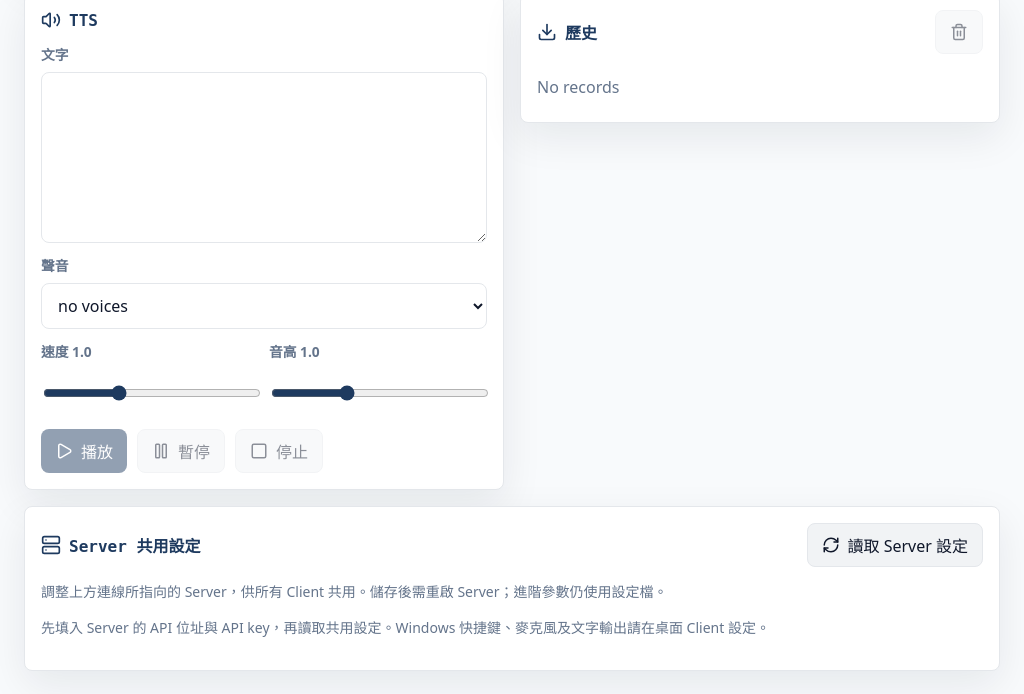
Test: App › keeps the endpoint and pending write when switching is rejected
(page scrolled)
Step 1. Click the button "讀取 Server 設定" → (895, 545), box [806, 523, 983, 567]
(page scrolled)
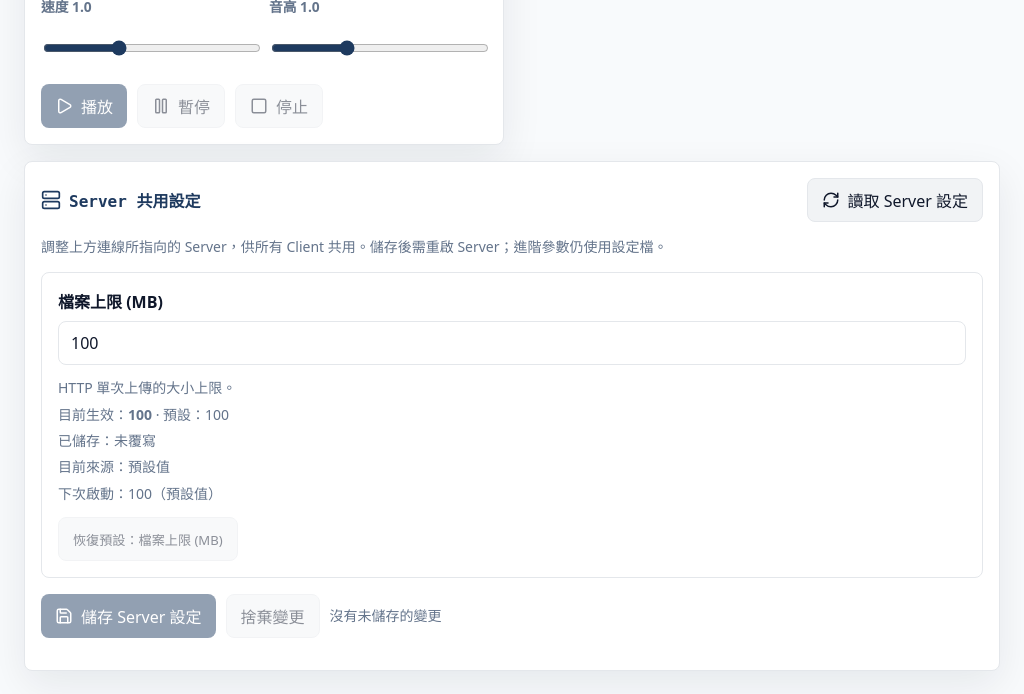
Step 2. Replace the text in the number field labelled "檔案上限 (MB)" with "200" → (512, 343), box [58, 321, 966, 365]
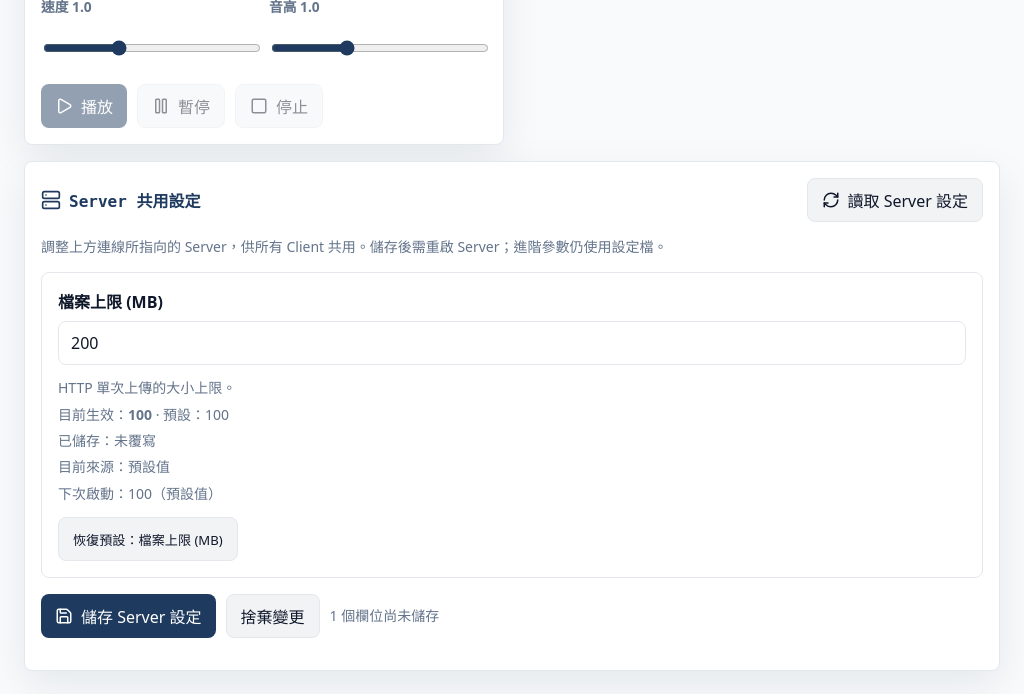
Step 3. Click the button "儲存 Server 設定" → (128, 616), box [41, 594, 216, 638]
(page scrolled)
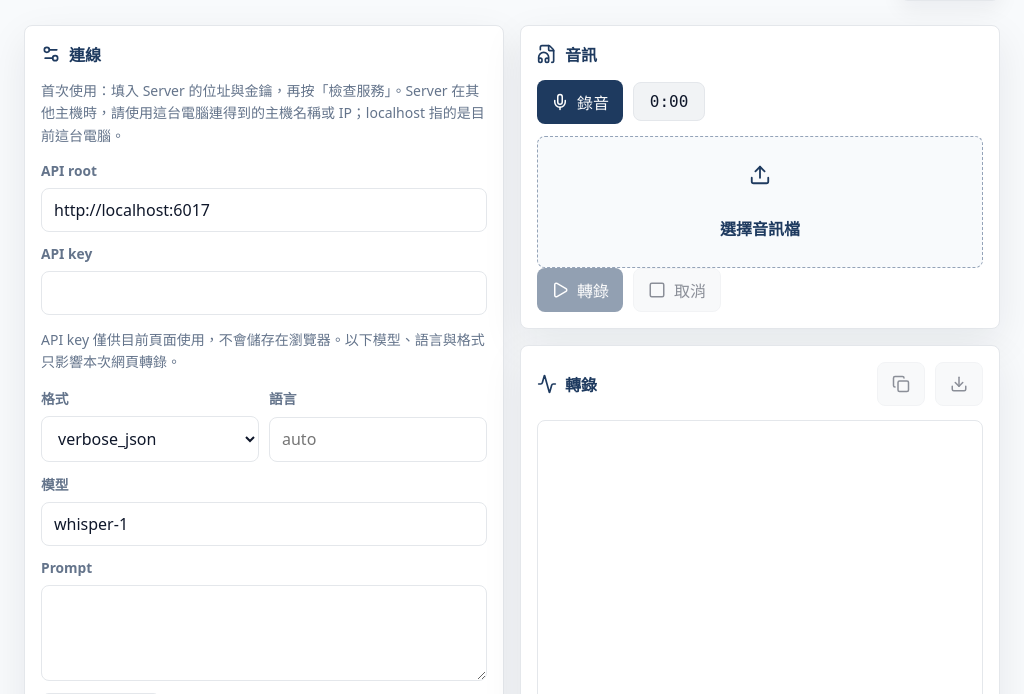
Step 4. Replace the text in the field labelled "API root" with "http://other:6017" → (264, 210), box [41, 188, 487, 232]
(page scrolled)
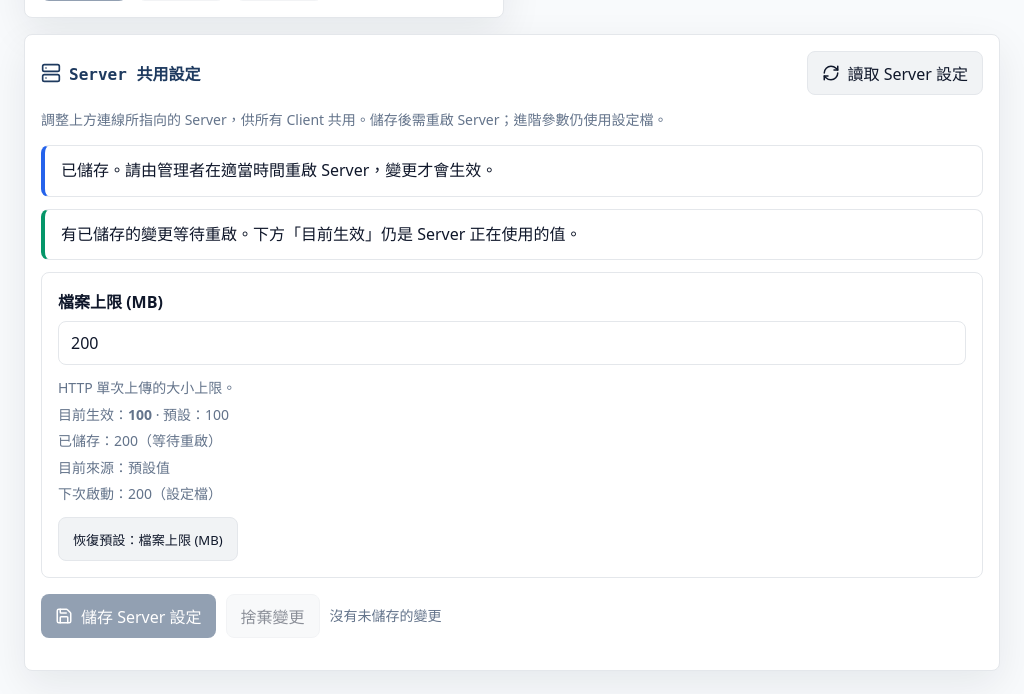
Result: the text "已儲存。請由管理者在適當時間重啟 Server，變更才會生效。" is shown at [41, 145, 983, 197]
